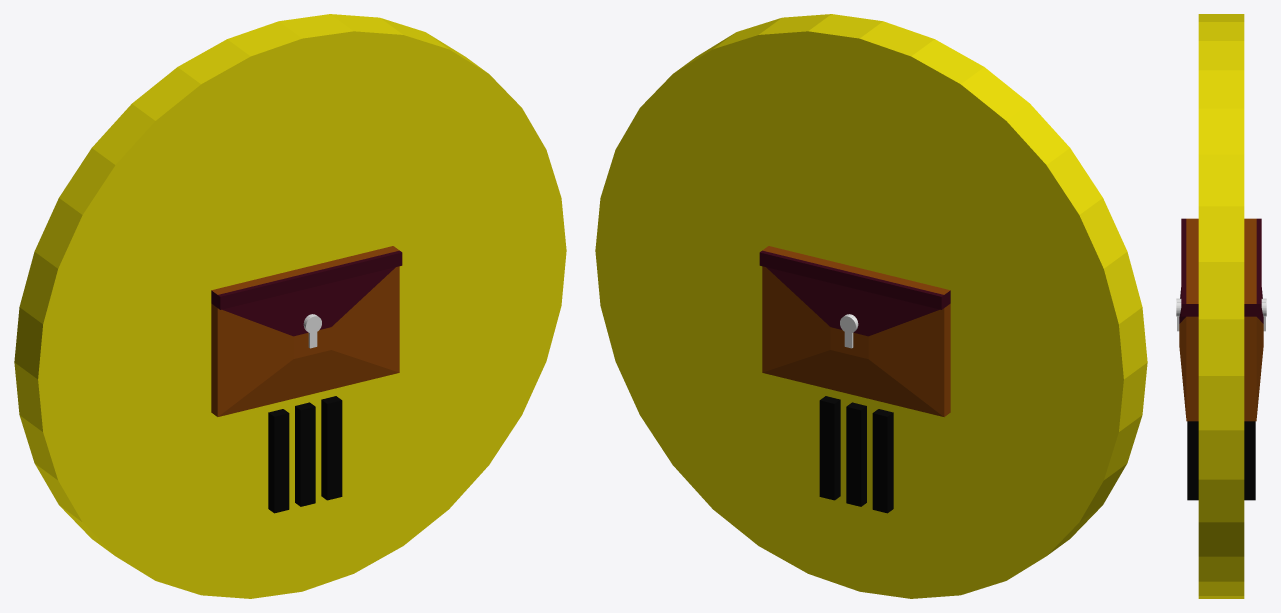
File: LootRoom3.fbx
3 renders of one model, left to right at view 1: azimuth 30°, elevation 25°; view 2: azimuth 150°, elevation 25°; view 3: azimuth 270°, elevation 25°, orthographic. The views are drawn at different scales.
Parts seen in each view (by area): view 1: Cylinder, Cube, Cube.003, Cube.004, Cube.002; view 2: Cylinder, Cube, Cube.003, Cube.004, Cube.002; view 3: Cylinder, Cube, Cube.004, Cylinder.001.
Part boxes in pixels (x1,y1,x2,y2): Cylinder: (14, 14, 566, 598); Cube: (211, 246, 402, 416); Cube.003: (268, 409, 289, 513); Cube.004: (321, 396, 342, 500); Cube.002: (295, 402, 315, 506); Cylinder: (595, 14, 1147, 598); Cube: (759, 246, 950, 416); Cube.003: (872, 409, 893, 513); Cube.004: (819, 396, 840, 500); Cube.002: (846, 402, 866, 506); Cylinder: (1198, 14, 1244, 598); Cube: (1179, 218, 1263, 421); Cube.004: (1187, 421, 1255, 500); Cylinder.001: (1176, 298, 1266, 316).
Size of the model in its own units: 200 by 200 by 30.91.
